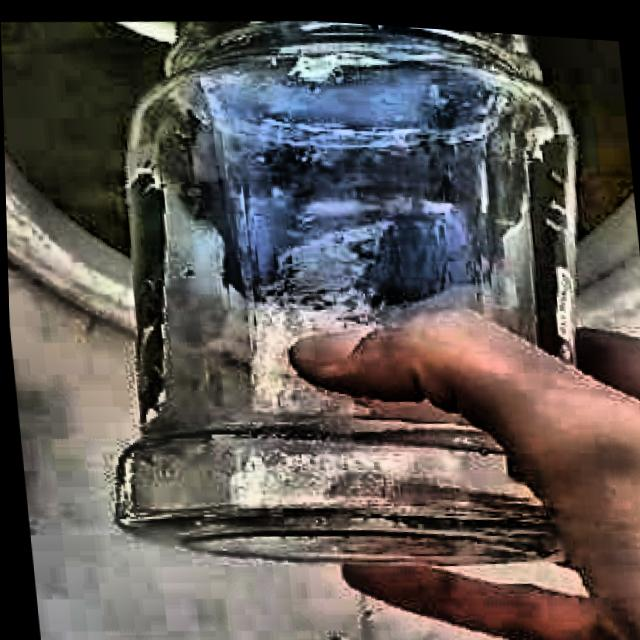glass: (115, 16, 574, 558)
